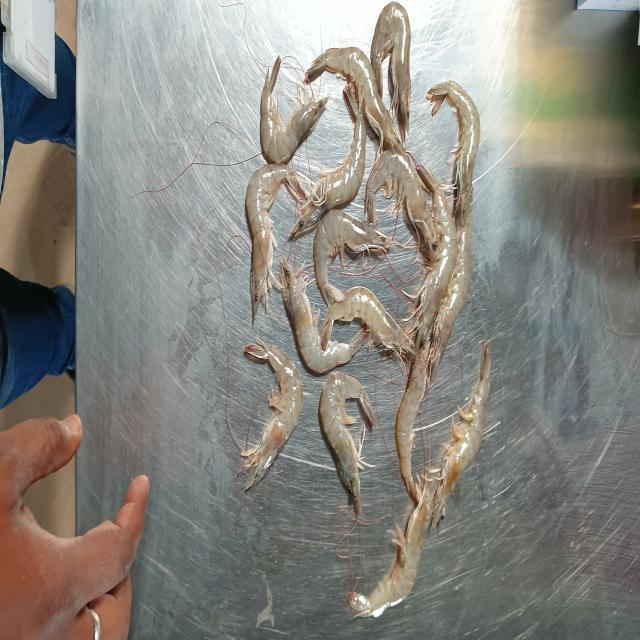shrimp: (348, 474, 432, 618), (289, 86, 366, 239), (305, 46, 406, 157), (431, 341, 490, 527), (281, 257, 369, 374), (245, 164, 306, 323), (241, 339, 302, 489), (408, 166, 458, 348), (427, 200, 472, 388), (364, 151, 436, 266), (426, 80, 480, 226), (312, 210, 392, 308), (319, 372, 374, 514), (260, 58, 329, 164), (320, 286, 415, 359), (370, 2, 411, 146), (395, 339, 429, 505)
